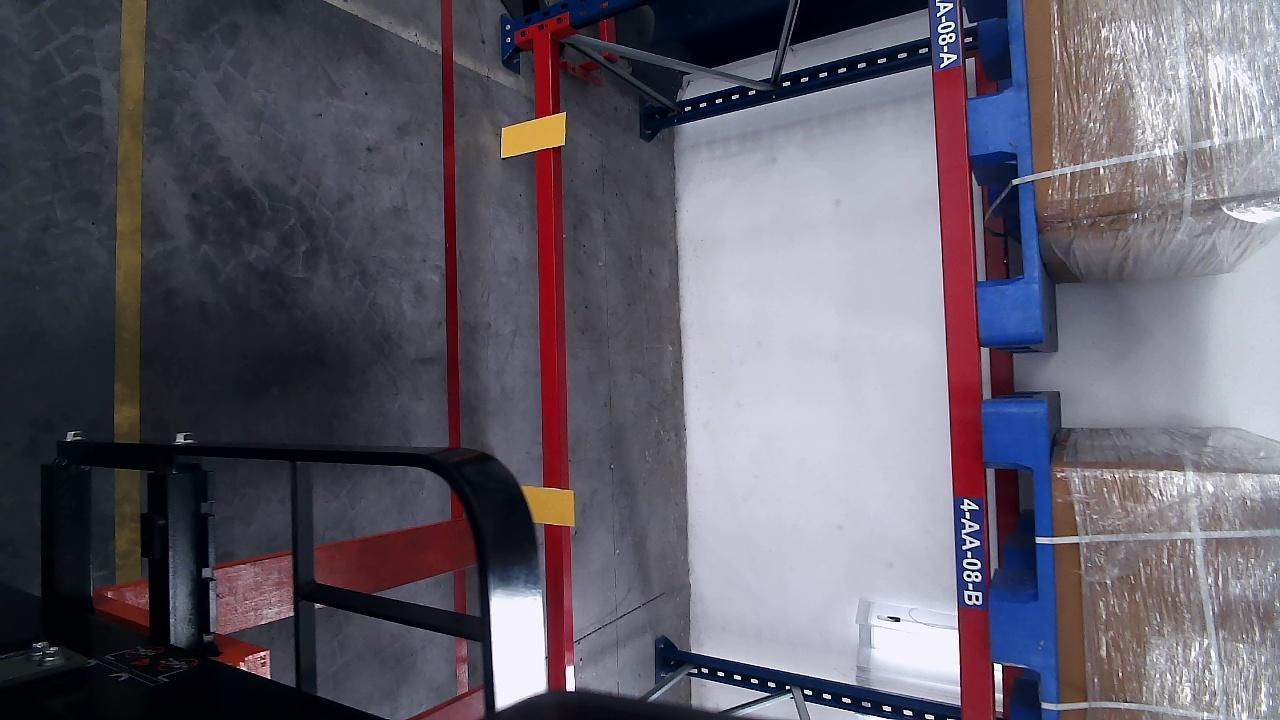red_line: (438, 1, 464, 449)
yellow_line: (111, 0, 149, 440)
